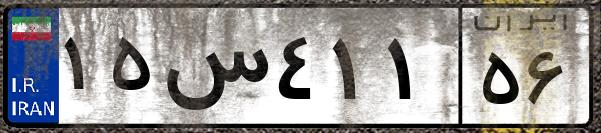1: (385, 28, 445, 110), (330, 28, 385, 110), (57, 26, 110, 100)
4: (270, 28, 330, 110)
5: (475, 38, 525, 113), (110, 28, 158, 98)
6: (525, 38, 570, 115)
س: (158, 20, 270, 120)
